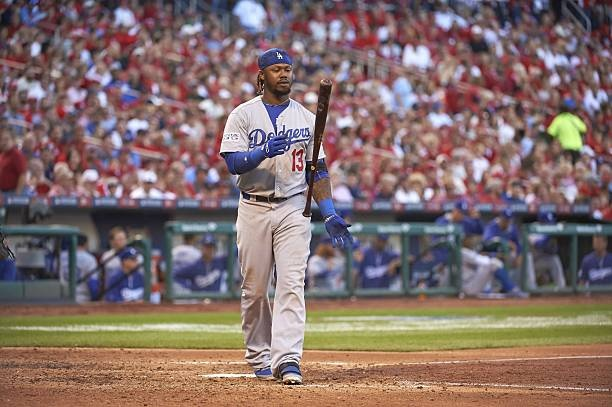bita: (298, 80, 334, 223)
